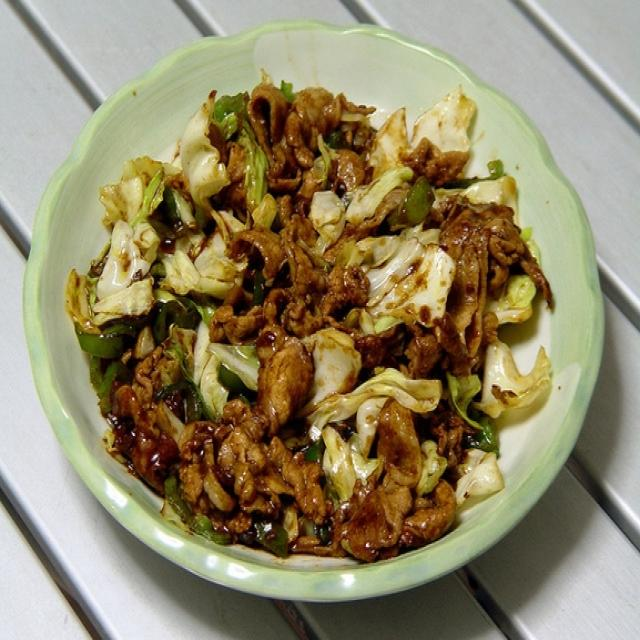猪肉菜式: (54, 48, 594, 586)
